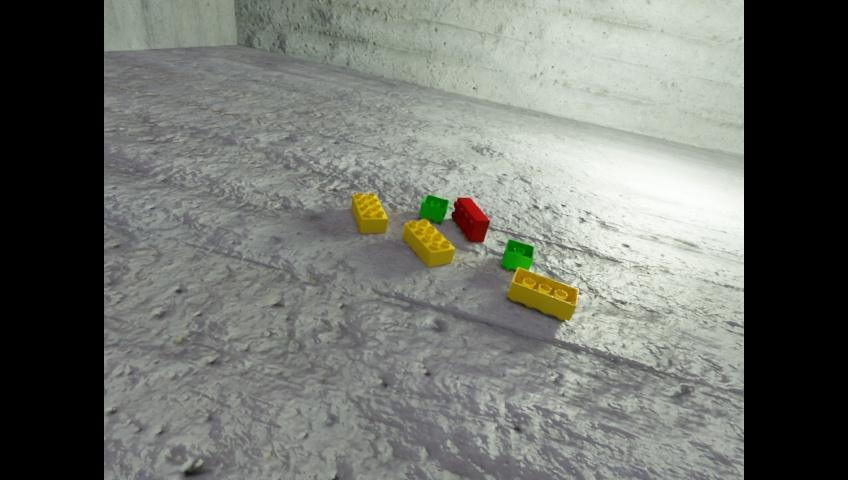2x2_green: (501, 238, 533, 271), (419, 193, 448, 222)
4x2_red: (451, 196, 489, 241)
4x2_yellow: (506, 266, 577, 320), (402, 218, 454, 266), (351, 192, 387, 233)
